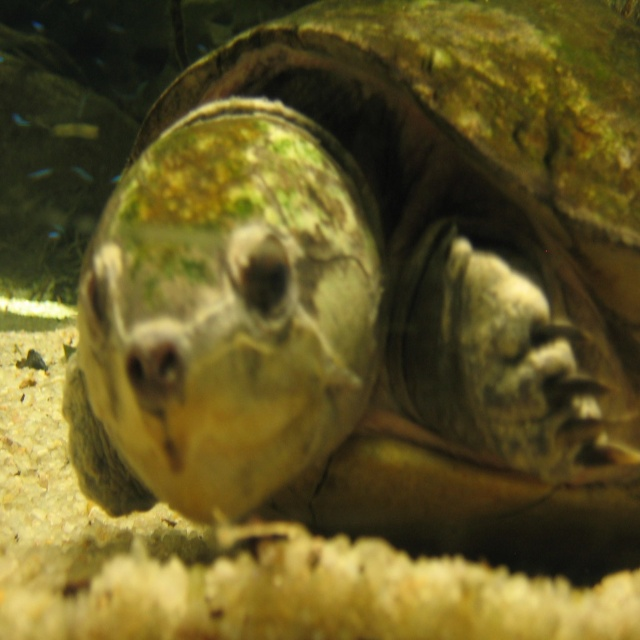Sea turtle: (63, 0, 640, 592)
